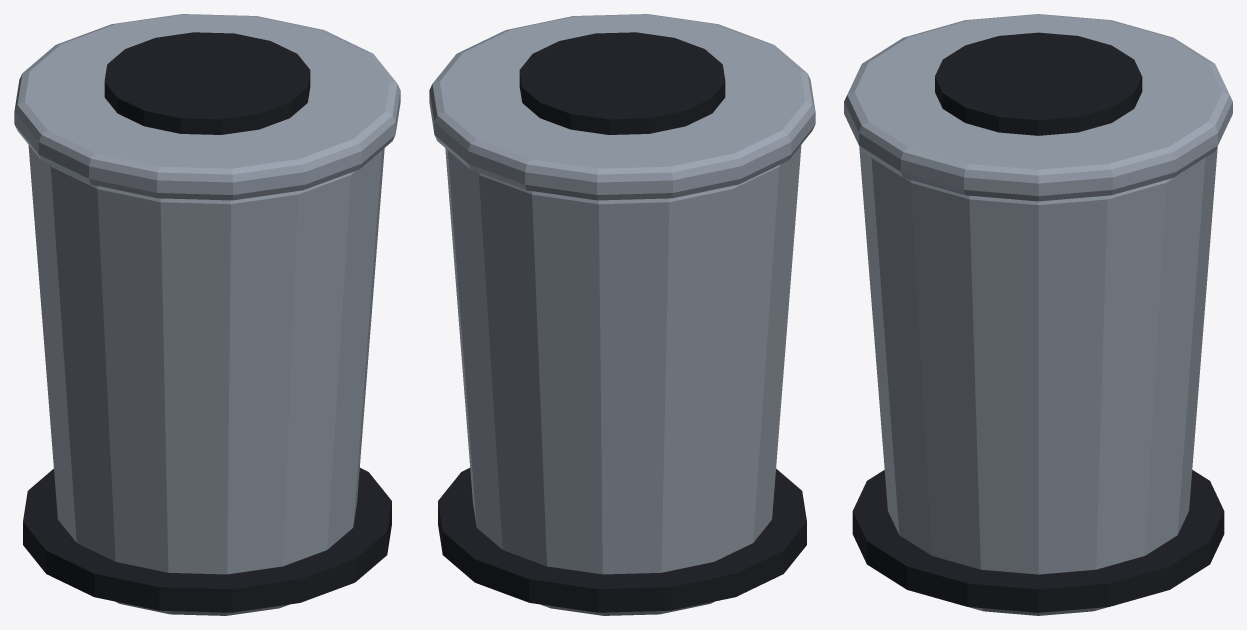
Rendered from trash-bin.glb.
The picture shows the model from 3 angles, left to right: view 1: azimuth 30°, elevation 25°; view 2: azimuth 150°, elevation 25°; view 3: azimuth 270°, elevation 25°; orthographic projection.
Visible parts, largest first — view 1: body; view 2: body; view 3: body.
Boxes of the visible parts, box(x1,y1,x2,y2) form: body: box(14, 14, 400, 615); body: box(429, 14, 815, 615); body: box(844, 14, 1232, 615).
Size of the model in its own units: 0.45 by 0.615 by 0.45.
